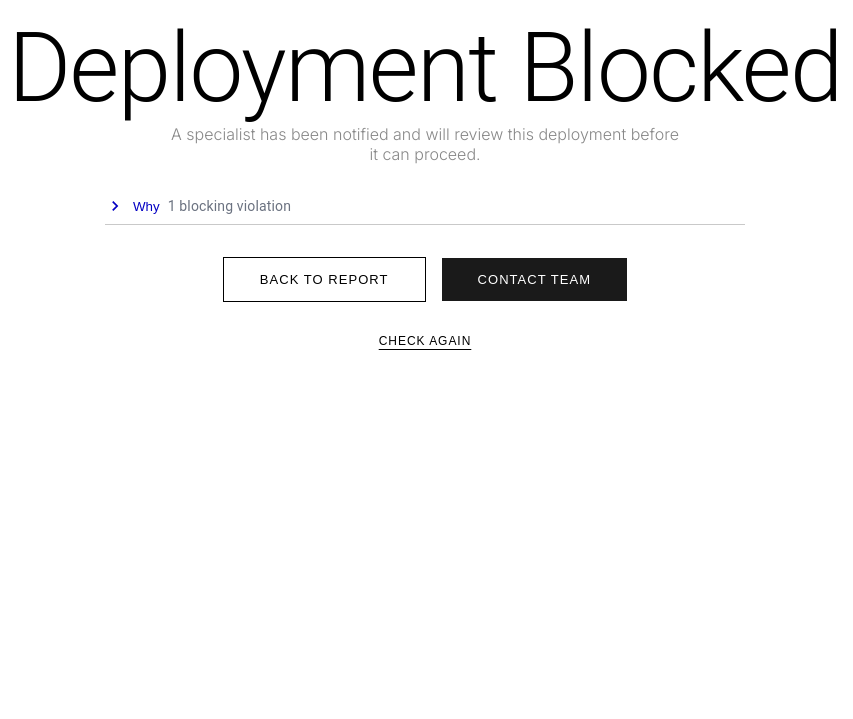
Test: PrApprovalView › blocked state lists only the blocking violations until expanded
Expected: the text "NET-001" is not shown
Click the button "Why 1 blocking violation".
click(229, 206)  # box [105,196,745,225]
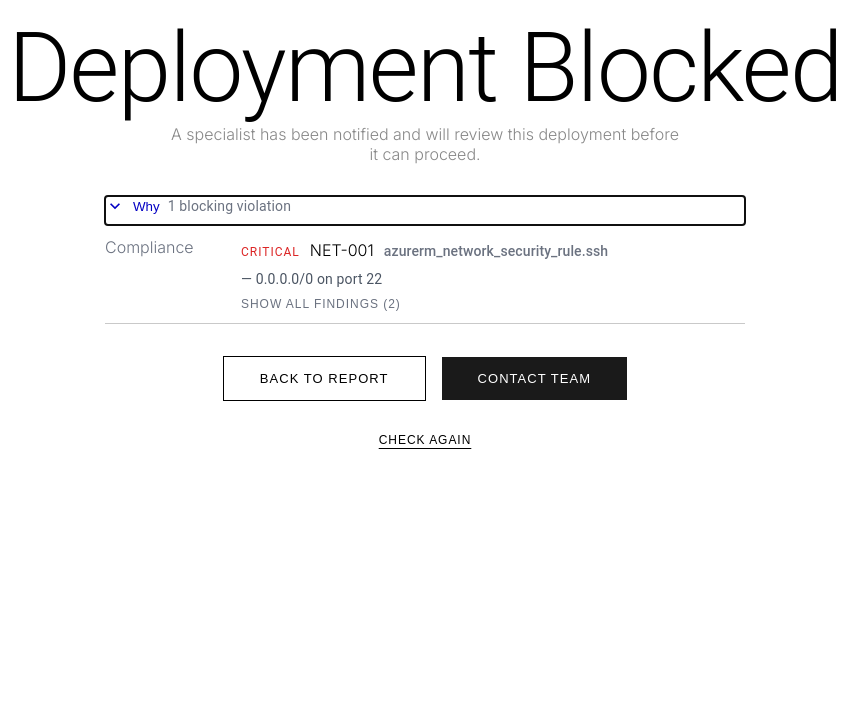
Now the button "Why 1 blocking violation" is expanded, box [105,196,745,225]
Now the text "Compliance" is shown, box [105,237,194,257]
Now the text "NET-001" is shown, box [310,240,374,260]
Click the button "Show all findings (2)".
click(321, 304)  # box [241,297,401,311]
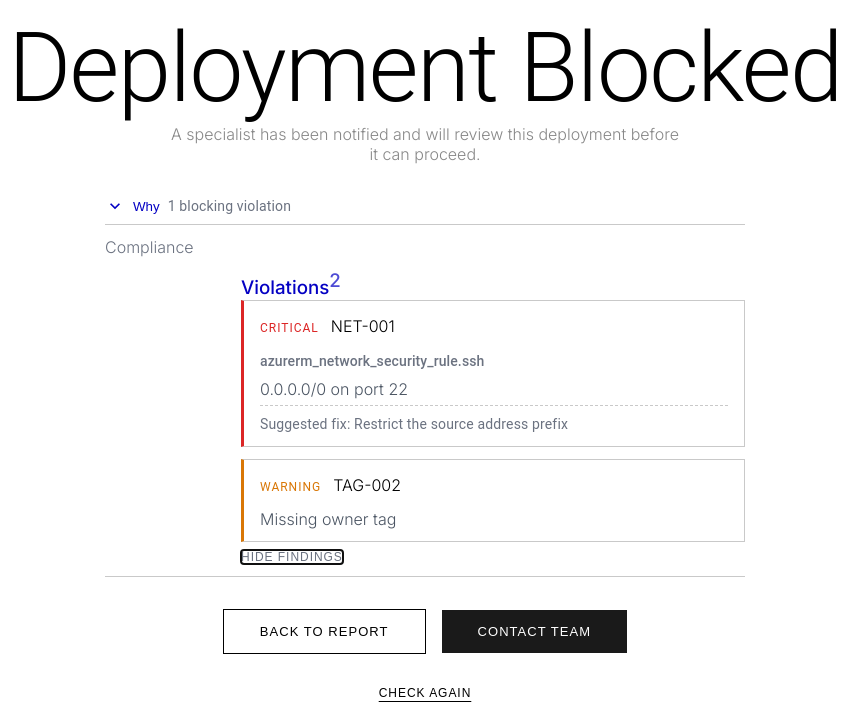
Now the text "TAG-002" is shown, box [333,475,401,495]
Now the text "Suggested fix: Restrict the source address prefix" is shown, box [260,404,728,434]
Now the button "Hide findings" is expanded, box [241,550,343,564]
